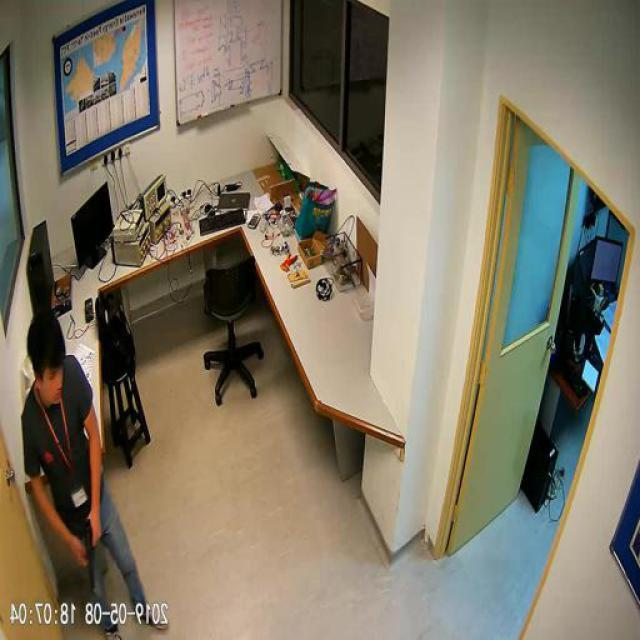weapon: (78, 516, 104, 596)
